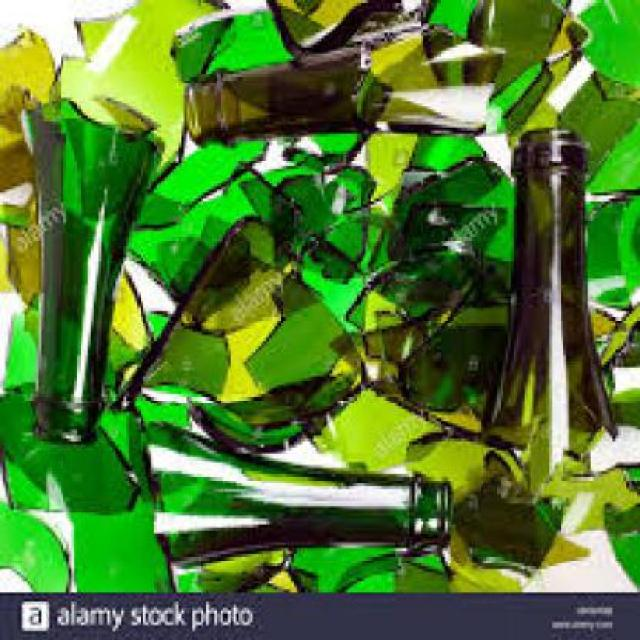kaca: (109, 214, 363, 454), (11, 83, 157, 445), (294, 148, 508, 377), (136, 415, 447, 560), (182, 15, 503, 144), (482, 128, 610, 438), (11, 380, 171, 588), (3, 300, 157, 512), (46, 0, 231, 163), (346, 246, 514, 417), (402, 423, 580, 572), (0, 190, 143, 352), (125, 160, 289, 291), (332, 276, 478, 418), (0, 378, 138, 507), (231, 151, 371, 258), (136, 124, 278, 216), (448, 463, 563, 575), (129, 377, 286, 454), (366, 350, 506, 432), (463, 0, 569, 102), (549, 71, 637, 189), (492, 17, 583, 128), (168, 3, 288, 83), (266, 0, 431, 57), (0, 24, 55, 190), (580, 178, 637, 300), (280, 543, 440, 585), (0, 498, 66, 588), (543, 471, 629, 537), (574, 0, 637, 86), (174, 549, 286, 588), (601, 463, 637, 582), (443, 540, 523, 588), (363, 124, 415, 196), (402, 128, 482, 172), (534, 528, 600, 569), (601, 297, 637, 368), (514, 99, 549, 143), (605, 377, 637, 425), (591, 300, 618, 342)
